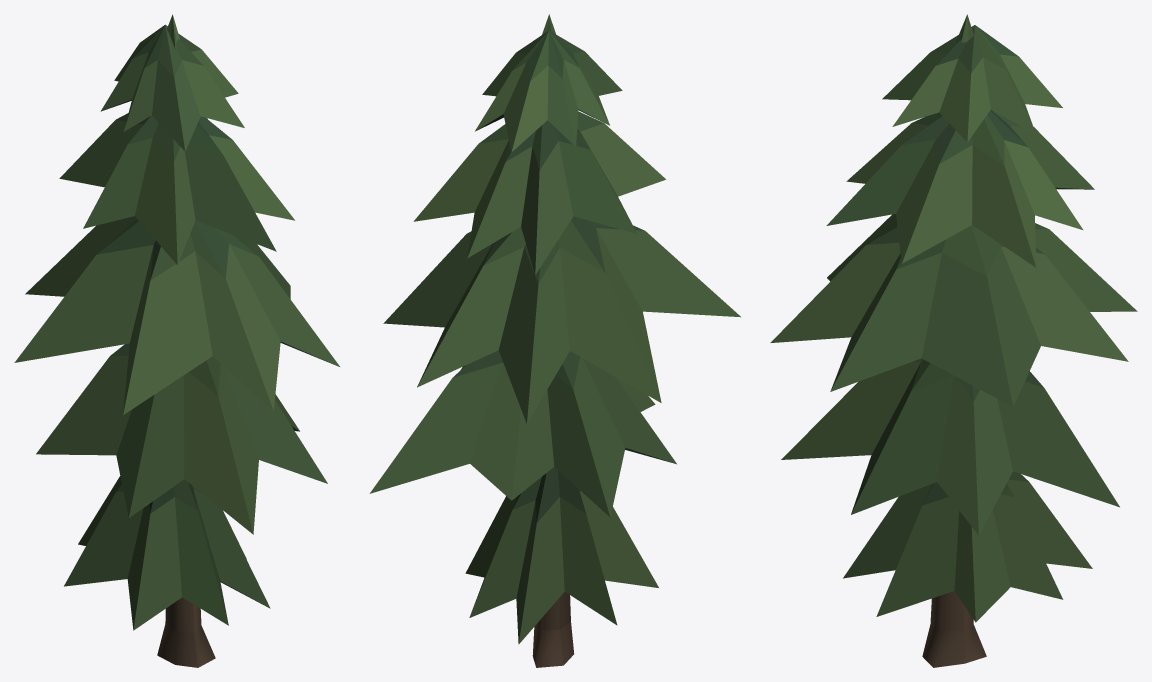
Rendered from pine_round.glb.
The picture shows the model from 3 angles, left to right: view 1: azimuth 30°, elevation 25°; view 2: azimuth 150°, elevation 25°; view 3: azimuth 270°, elevation 25°; orthographic projection.
Parts seen in each view (by area): view 1: pine_round; view 2: pine_round; view 3: pine_round.
Boxes of the visible parts, box(x1,y1,x2,y2) form: pine_round: box(14, 14, 339, 667); pine_round: box(369, 14, 740, 667); pine_round: box(770, 14, 1137, 667).
Size of the model in its own units: 3.16 by 7 by 3.64.
